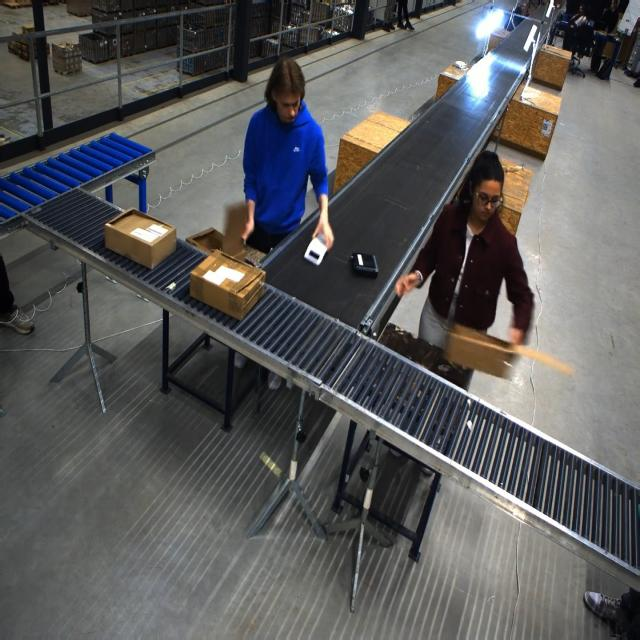box: (189, 249, 265, 319), (104, 208, 178, 271), (185, 226, 253, 270)
product: (301, 235, 333, 268), (349, 252, 377, 278)
